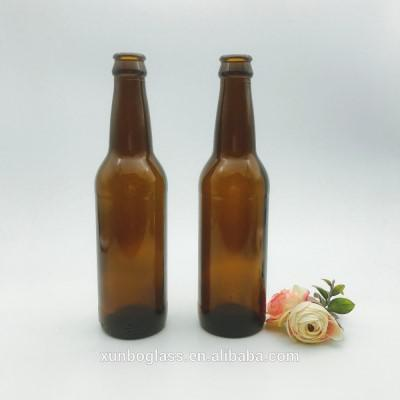beer: (93, 51, 272, 343)
